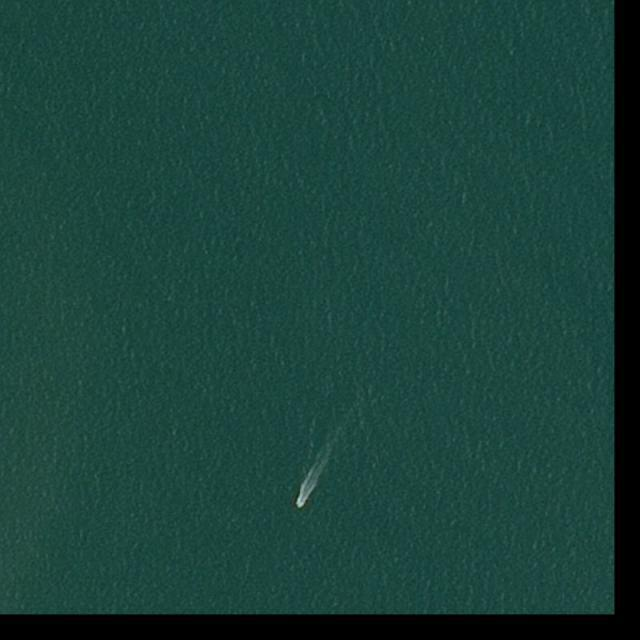ship: (297, 502, 303, 507)
